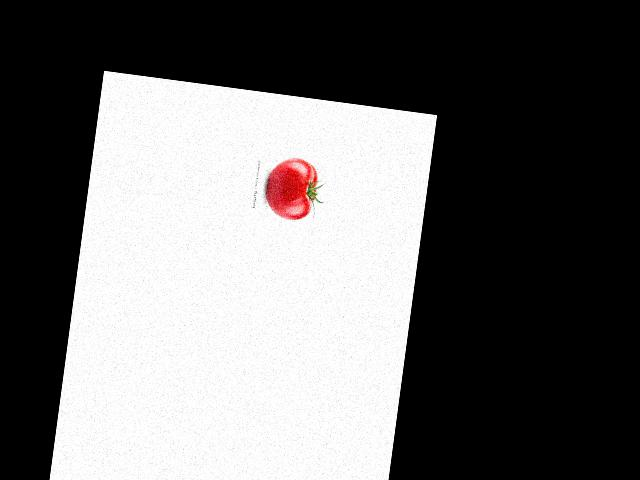tomato: (263, 154, 319, 222)
